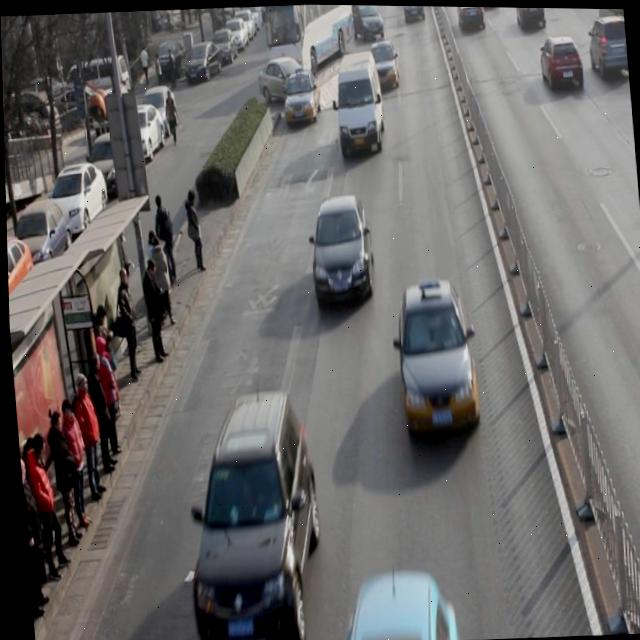car: (174, 389, 326, 640), (393, 279, 480, 436), (307, 191, 376, 305), (256, 55, 317, 106), (586, 10, 629, 76), (540, 33, 585, 90), (281, 68, 323, 127), (367, 38, 401, 92), (351, 4, 386, 41), (456, 5, 488, 34), (516, 6, 548, 30), (402, 5, 425, 23), (477, 6, 501, 9)
truck: (333, 47, 387, 158)
van: (264, 3, 357, 80)
